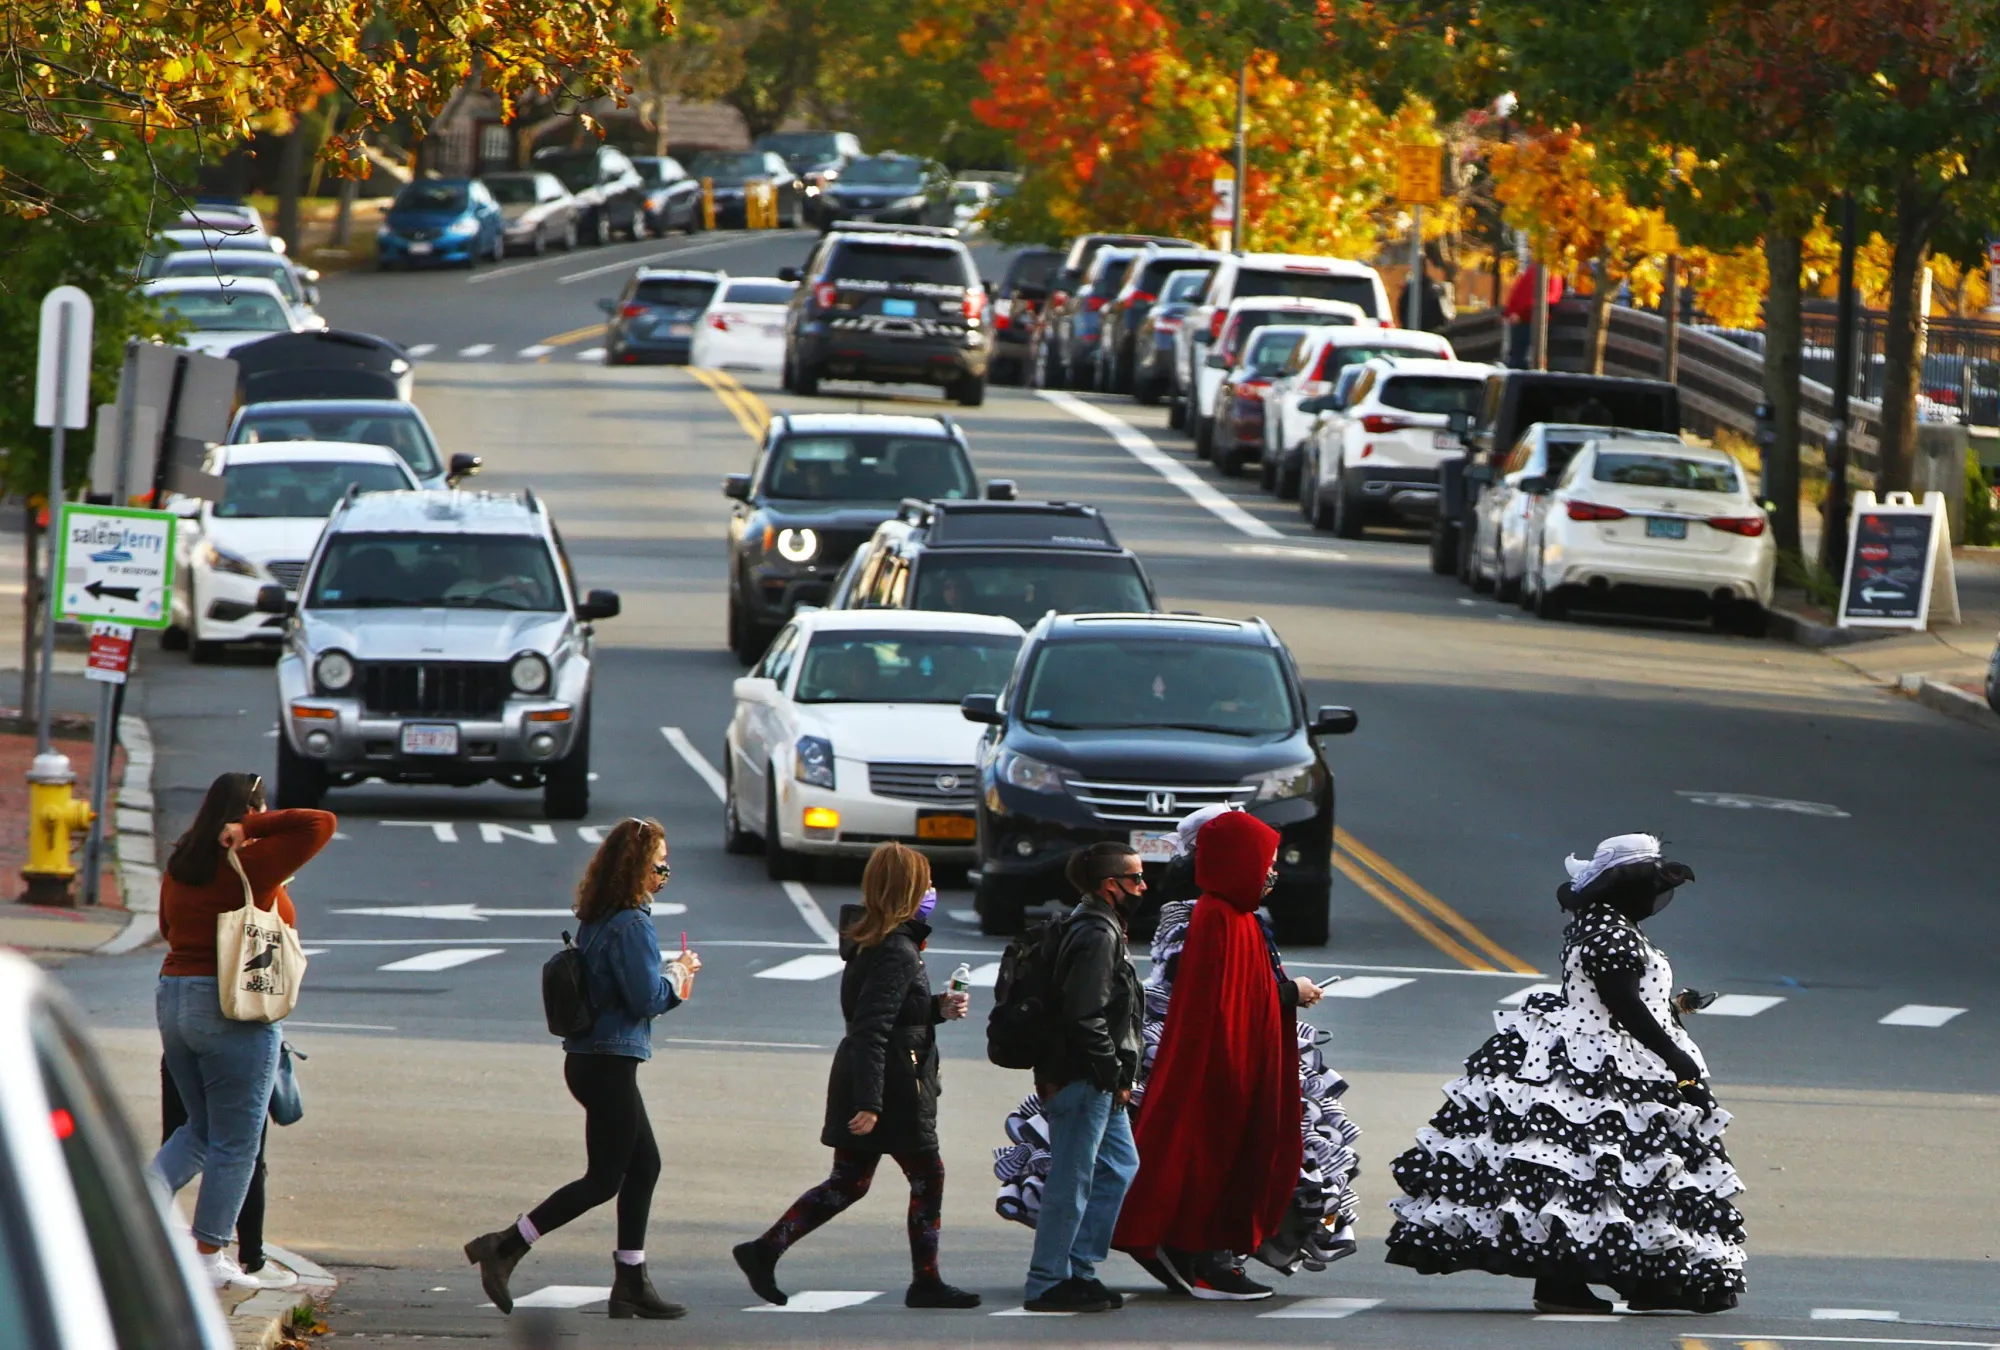human: (1360, 824, 1761, 1312), (457, 807, 699, 1324), (732, 830, 980, 1321), (148, 754, 331, 1295), (989, 834, 1149, 1309), (1151, 805, 1294, 1298)
